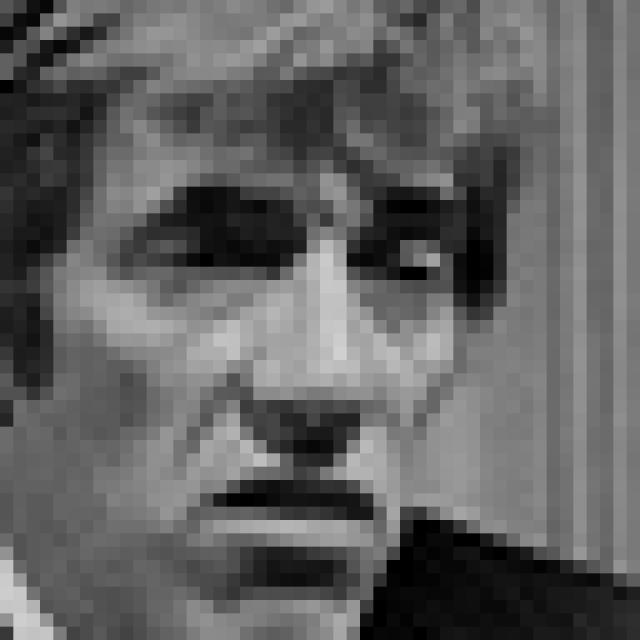disgust: (107, 167, 458, 575)
